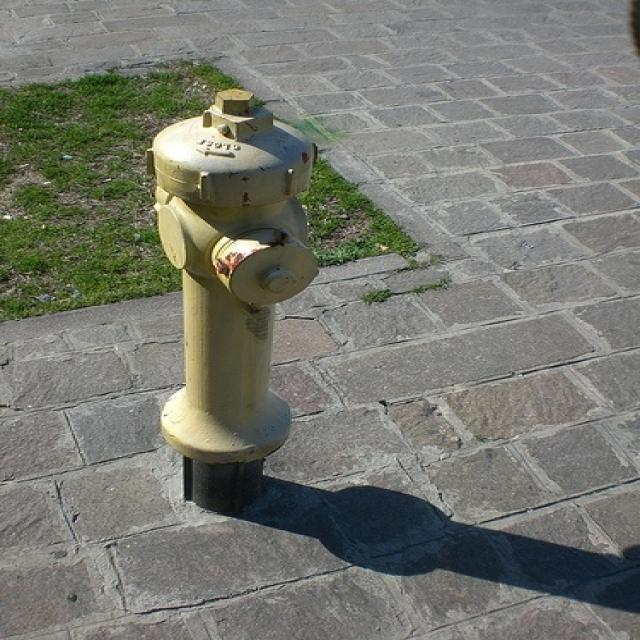fire_hydrant: (95, 87, 370, 539)
